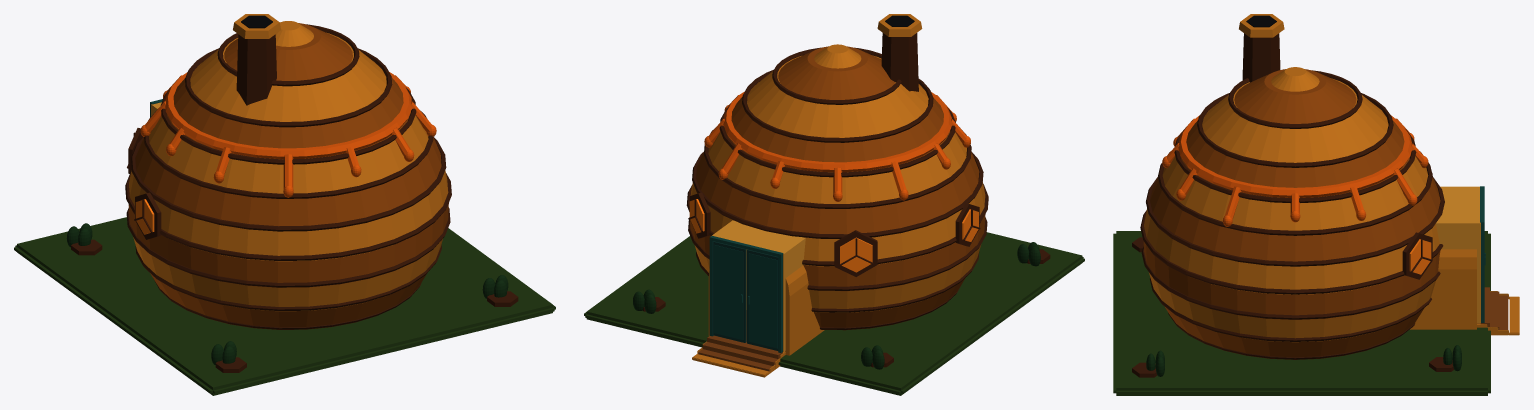
The model's file is beehive-cottage-visual.obj.
3 renders of one model, left to right at view 1: azimuth 30°, elevation 25°; view 2: azimuth 150°, elevation 25°; view 3: azimuth 270°, elevation 25°, orthographic. The views are drawn at different scales.
Parts seen in each view (by area): view 1: BeehiveShell, Foundation_01, HoneyDrips, WaxChimney, Garden, HoneycombWindows; view 2: BeehiveShell, Foundation_01, HoneyDrips, HoneycombWindows, HouseDoorLeaf_R_Panel, HouseDoorLeaf_L_Panel, WaxChimney, EntrancePod_01, Garden, WalkPassageCeiling, WalkPassageRight, Approach (+7 smaller); view 3: BeehiveShell, Foundation_01, HoneyDrips, EntrancePod_01, WaxChimney, WalkPassageCeiling, Garden, WalkPassageLeft, HoneycombWindows, Approach, WalkEntryJamb-1, WalkApproach1.
Part boxes in pixels (bbox=[...]): BeehiveShell: bbox=[125, 21, 451, 329]; Foundation_01: bbox=[14, 217, 555, 395]; HoneyDrips: bbox=[140, 72, 436, 197]; WaxChimney: bbox=[233, 14, 280, 105]; Garden: bbox=[66, 223, 518, 372]; HoneycombWindows: bbox=[127, 128, 161, 239]; BeehiveShell: bbox=[686, 44, 988, 330]; Foundation_01: bbox=[584, 232, 1084, 395]; HoneyDrips: bbox=[704, 91, 970, 201]; HoneycombWindows: bbox=[688, 192, 980, 276]; HouseDoorLeaf_R_Panel: bbox=[748, 253, 777, 348]; HouseDoorLeaf_L_Panel: bbox=[714, 245, 743, 339]; WaxChimney: bbox=[877, 14, 922, 91]; EntrancePod_01: bbox=[708, 265, 824, 355]; Garden: bbox=[633, 242, 1050, 369]; WalkPassageCeiling: bbox=[712, 220, 805, 256]; WalkPassageRight: bbox=[783, 241, 805, 351]; Approach: bbox=[692, 341, 785, 377]; BeehiveShell: bbox=[1140, 67, 1444, 359]; Foundation_01: bbox=[1113, 231, 1490, 395]; HoneyDrips: bbox=[1162, 115, 1428, 226]; EntrancePod_01: bbox=[1410, 249, 1476, 329]; WaxChimney: bbox=[1239, 14, 1284, 82]; WalkPassageCeiling: bbox=[1436, 186, 1480, 225]; Garden: bbox=[1132, 237, 1461, 377]; WalkPassageLeft: bbox=[1436, 225, 1480, 323]; HoneycombWindows: bbox=[1402, 173, 1432, 279]; Approach: bbox=[1477, 291, 1519, 335]; WalkEntryJamb-1: bbox=[1481, 223, 1484, 322]; WalkApproach1: bbox=[1490, 291, 1499, 329].
Bounding box in the file's own units: 28 × 22.38 × 30.13.
